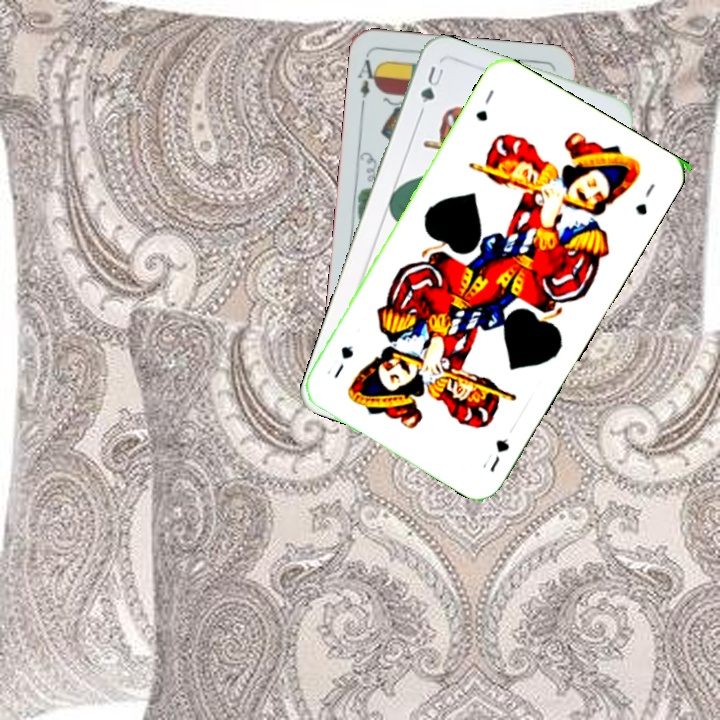EA: (354, 52, 382, 111)
GU: (416, 62, 447, 106), (485, 434, 513, 475), (471, 85, 497, 124)
